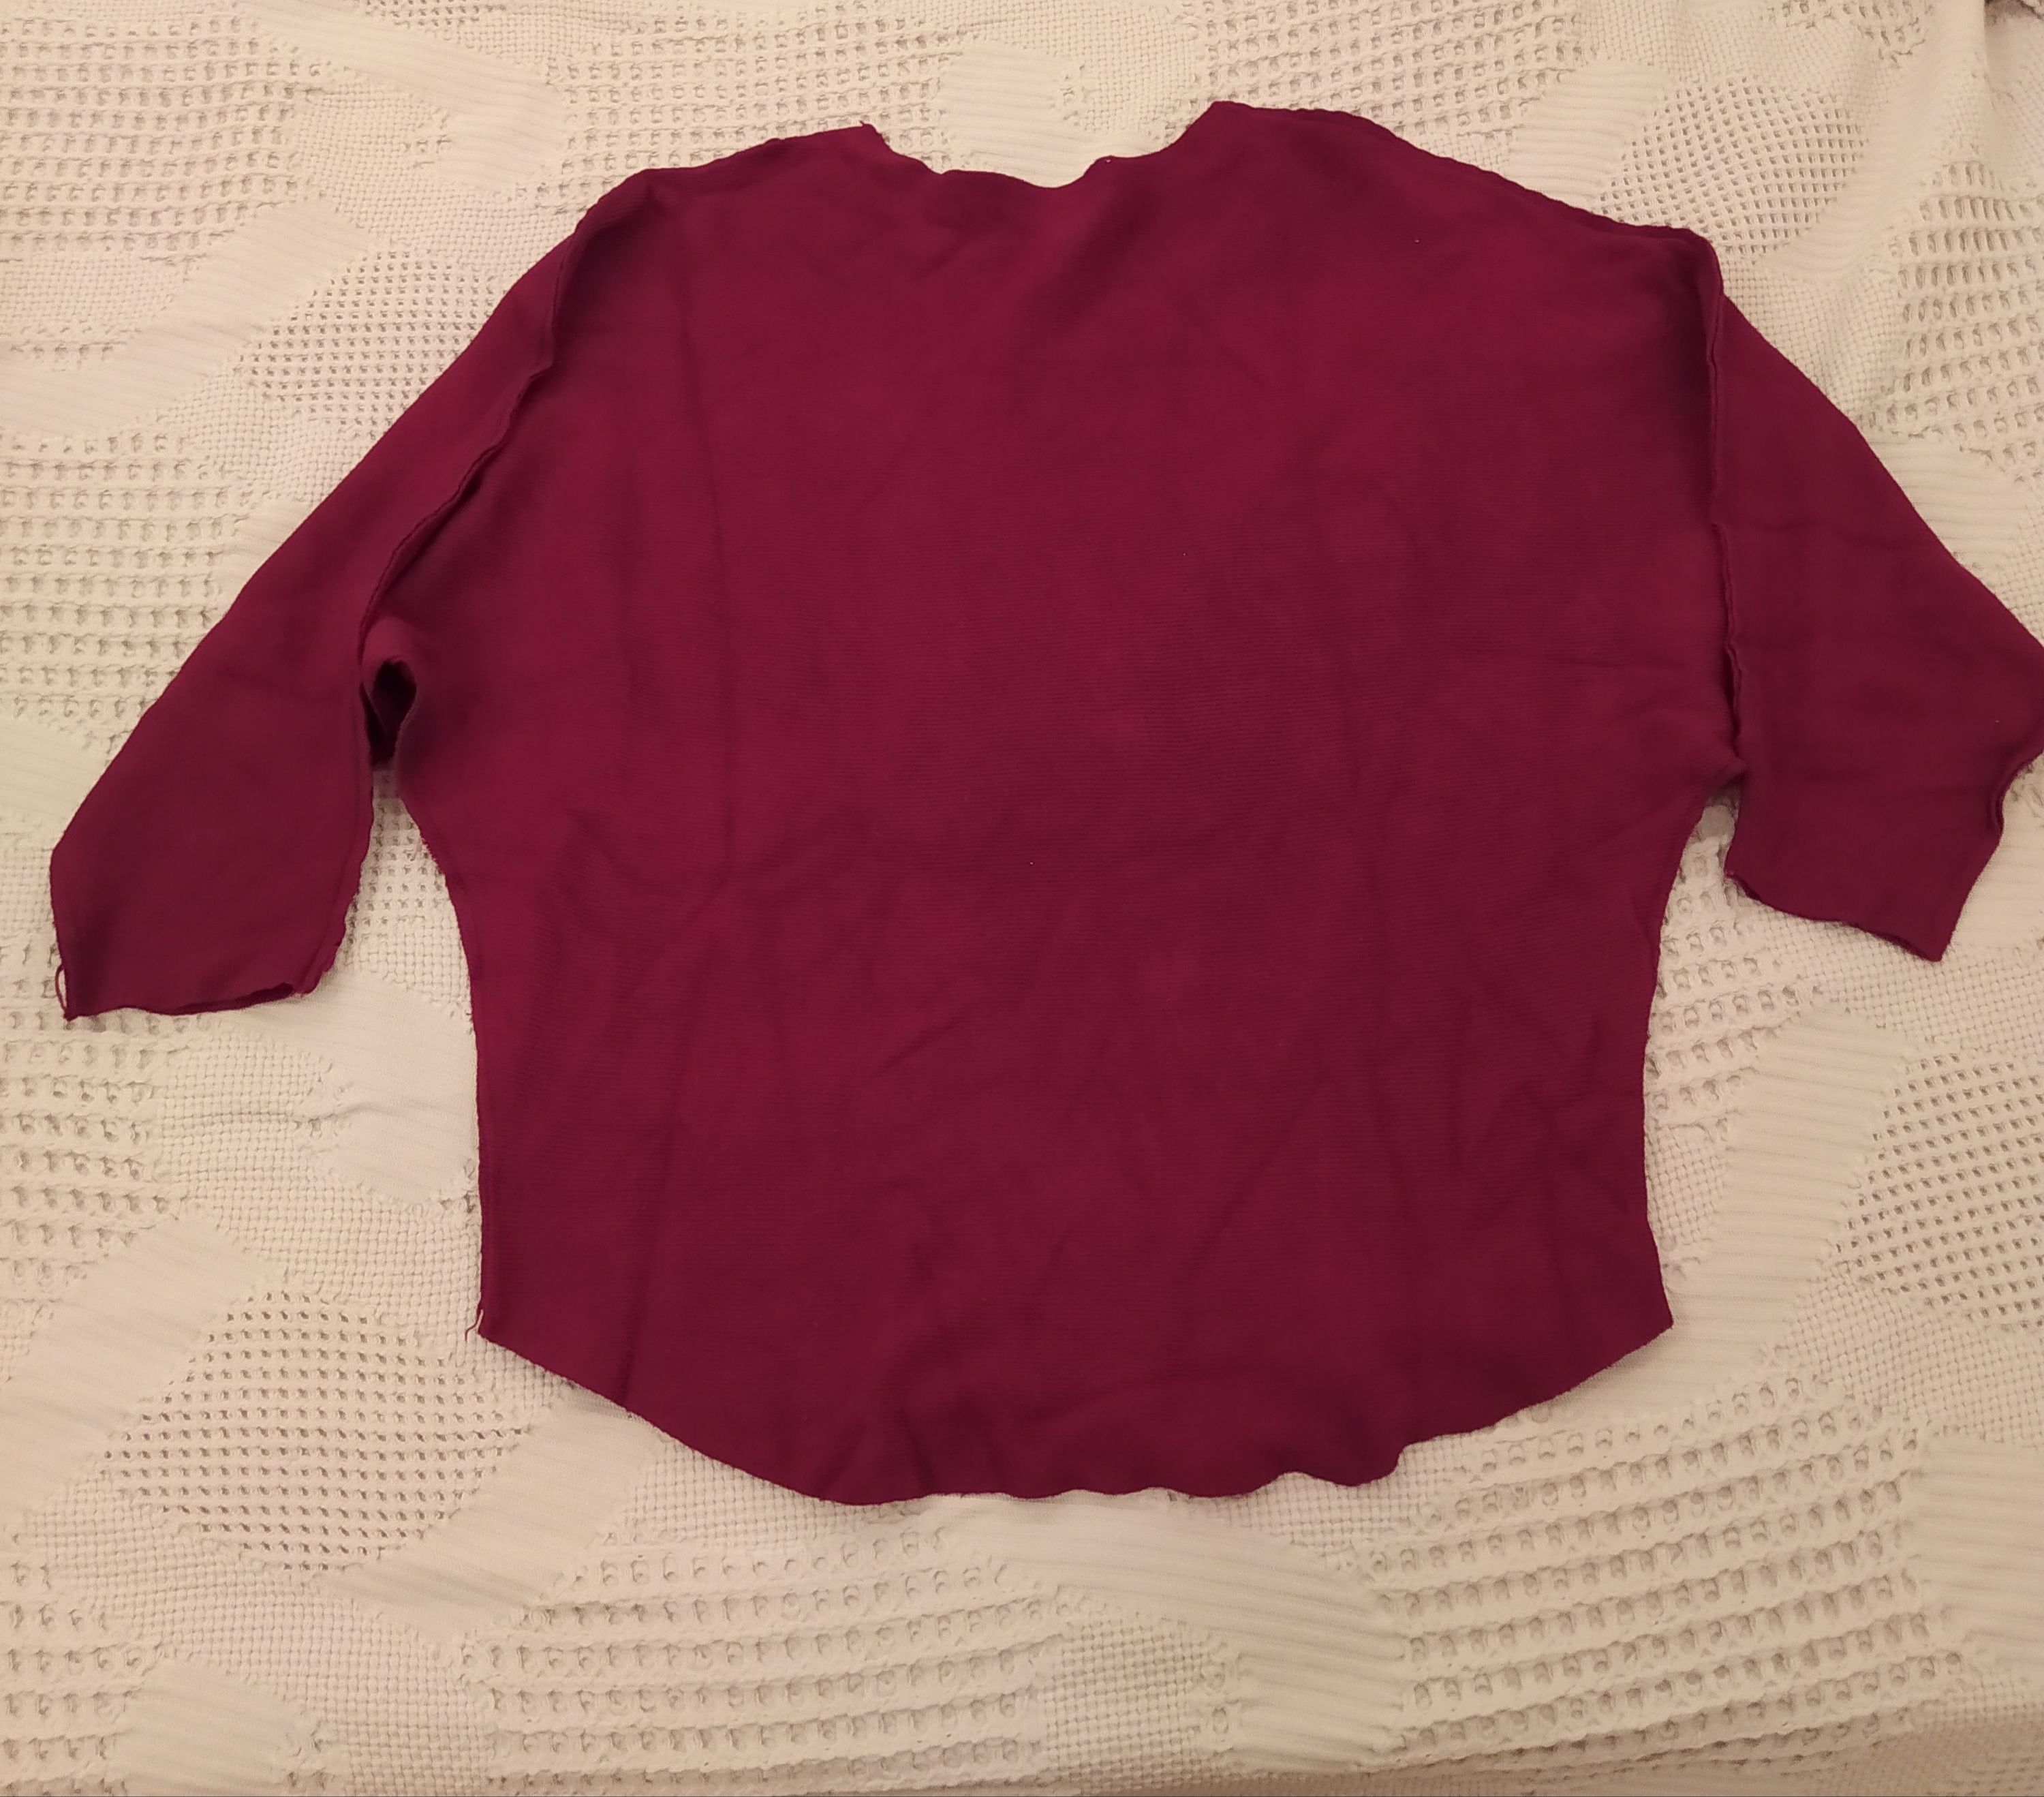clothes: (61, 116, 2044, 1486)
